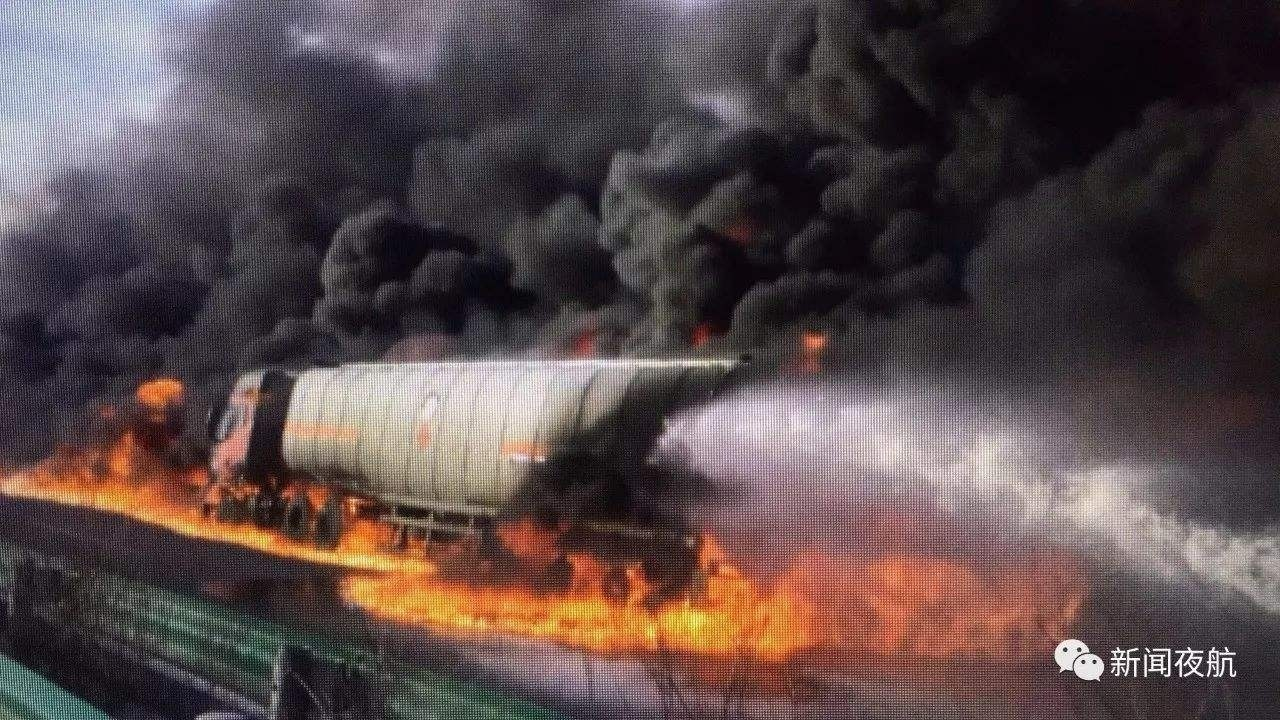fire: (22, 388, 819, 653), (795, 326, 829, 375)
